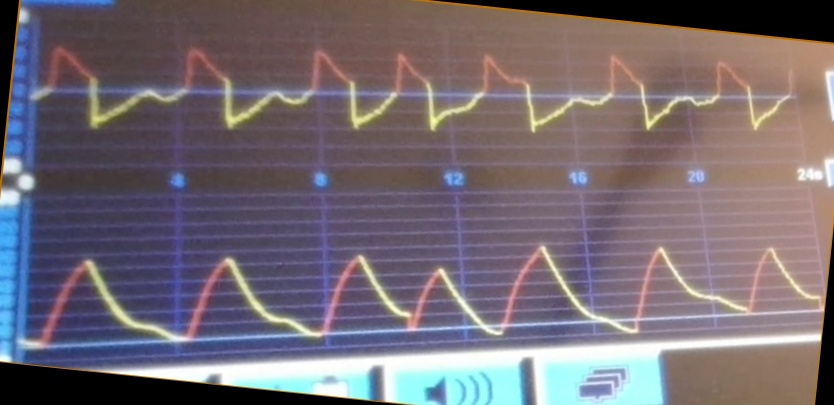Ineffective_effort Flow: (39, 41, 794, 148)
Ineffective_effort Volume: (27, 239, 818, 350)
